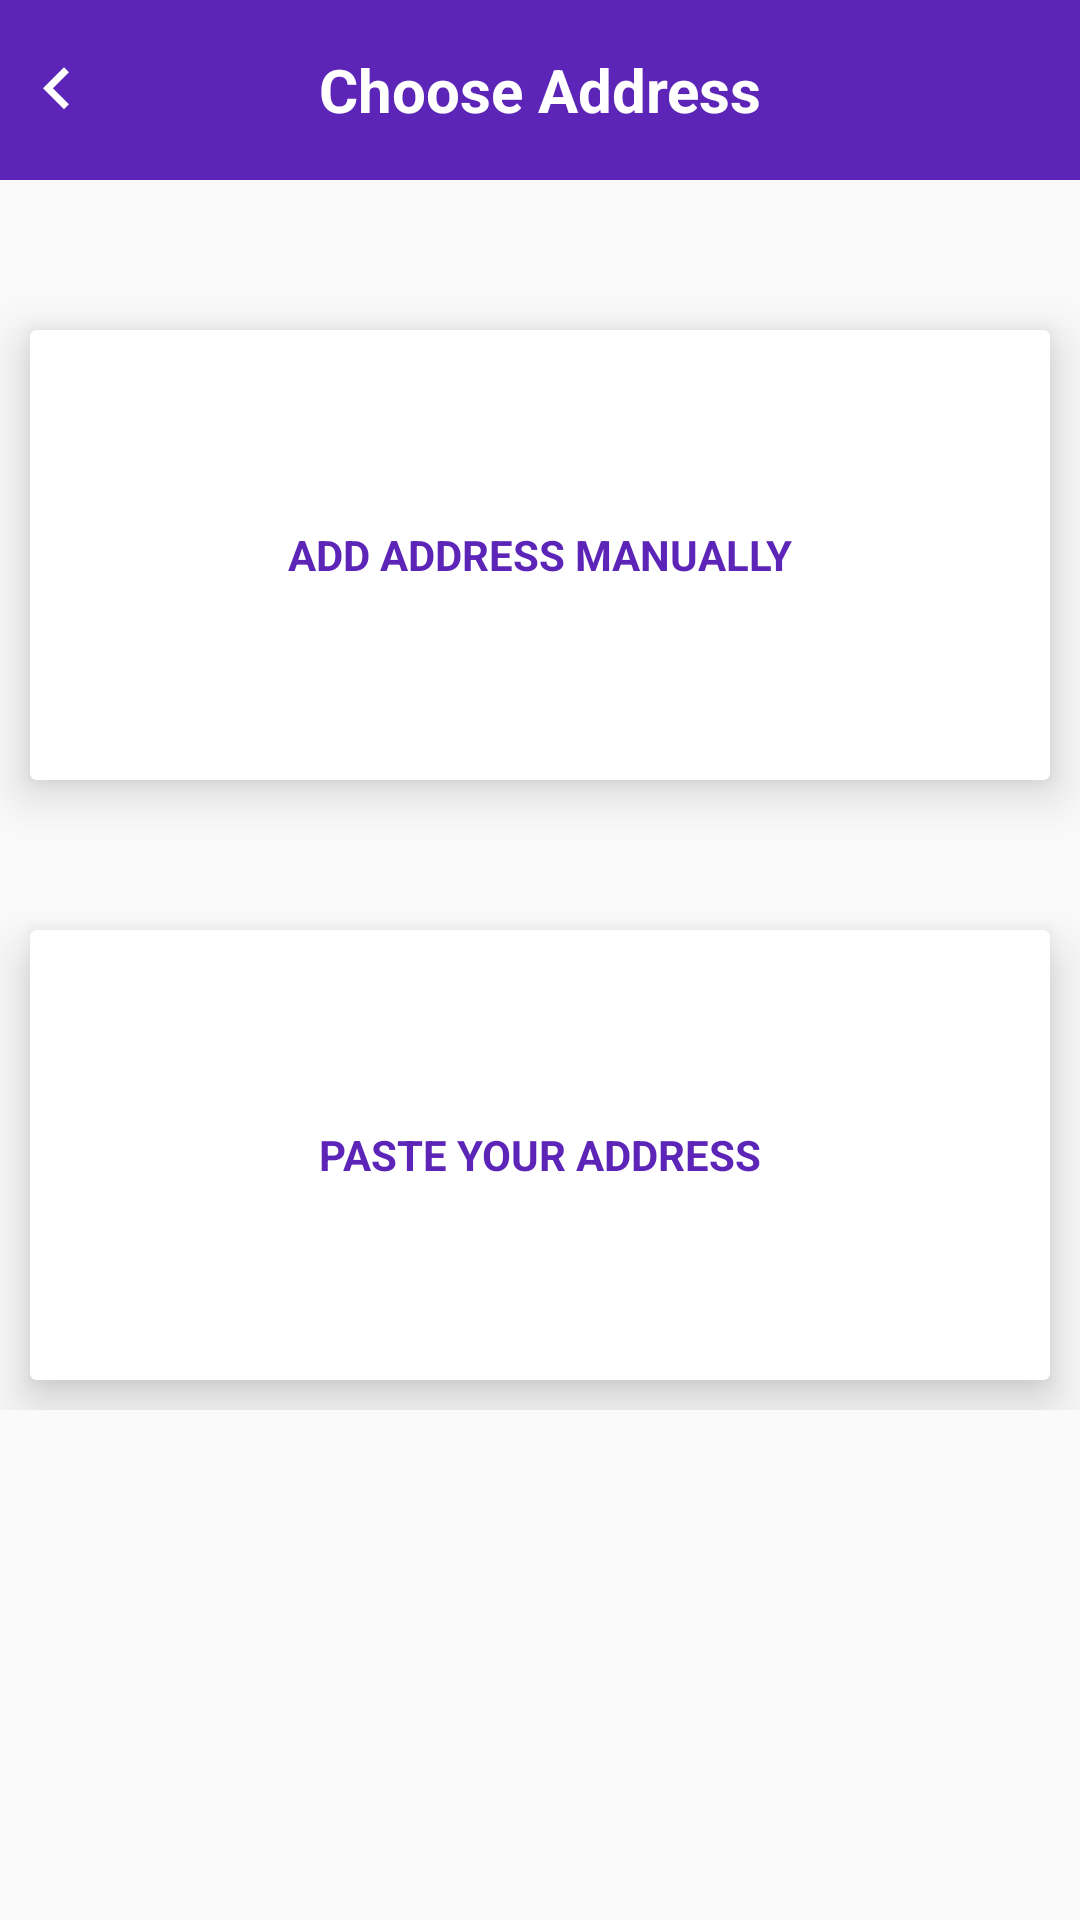

Locate icon controls on the screen. Image size 1080 × 1920, boxes as (x1, y1, x2, y2).
keyboard arrow left: (43, 67, 69, 109)
